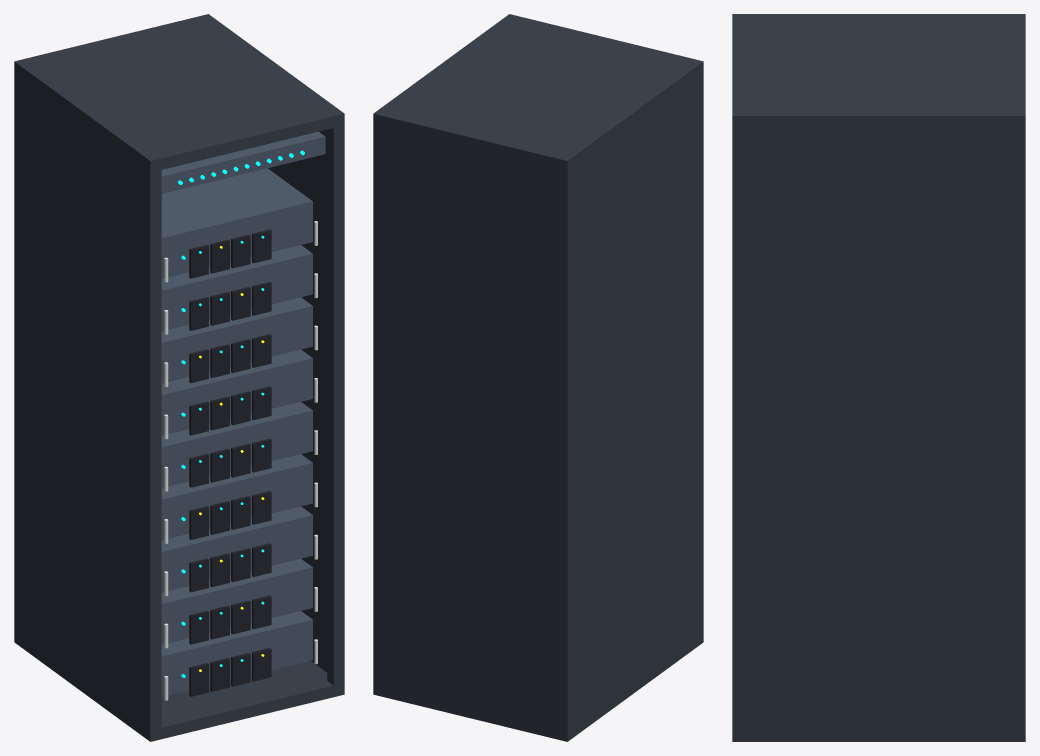
Rendered from server_rack.glb.
3 views of the same model, side by side, from view 1: azimuth 30°, elevation 25°; view 2: azimuth 150°, elevation 25°; view 3: azimuth 270°, elevation 25° (orthographic). The views are drawn at different scales.
Visible parts, largest first — view 1: Rack_Side_L, Rack_Top_Cap, RackPost_1, Blade_9, RackPost_2, Rack_Side_R, Rack_Bottom_Cap, Blade_7, Blade_3, Blade_4, Blade_8, Blade_6 (+41 smaller); view 2: Rack_Back, Rack_Side_L, Rack_Top_Cap, RackPost_3, RackPost_4, RackPost_1, Rack_Bottom_Cap; view 3: Rack_Side_R, Rack_Top_Cap, RackPost_4, RackPost_2, Rack_Bottom_Cap.
Boxes of the visible parts, box(x1,y1,x2,y2) form: Rack_Side_L: box(19, 78, 145, 725); Rack_Top_Cap: box(14, 14, 344, 172); RackPost_1: box(144, 155, 161, 741); Blade_9: box(161, 168, 312, 278); RackPost_2: box(327, 115, 344, 690); Rack_Side_R: box(268, 129, 327, 672); Rack_Bottom_Cap: box(15, 633, 344, 741); Blade_7: box(161, 297, 312, 383); Blade_3: box(161, 506, 312, 592); Blade_4: box(161, 454, 312, 540); Blade_8: box(161, 245, 312, 330); Blade_6: box(161, 349, 312, 435); Rack_Back: box(381, 127, 559, 727); Rack_Side_L: box(572, 78, 697, 725); Rack_Top_Cap: box(373, 14, 703, 172); RackPost_3: box(556, 154, 573, 741); RackPost_4: box(373, 114, 384, 691); RackPost_1: box(697, 61, 703, 646); Rack_Bottom_Cap: box(373, 635, 703, 741); Rack_Side_R: box(742, 128, 1015, 729); Rack_Top_Cap: box(732, 14, 1025, 128); RackPost_4: box(1012, 110, 1025, 741); RackPost_2: box(732, 111, 745, 741); Rack_Bottom_Cap: box(732, 729, 1025, 741).
Size of the model in its own units: 0.7 by 2 by 0.85.
